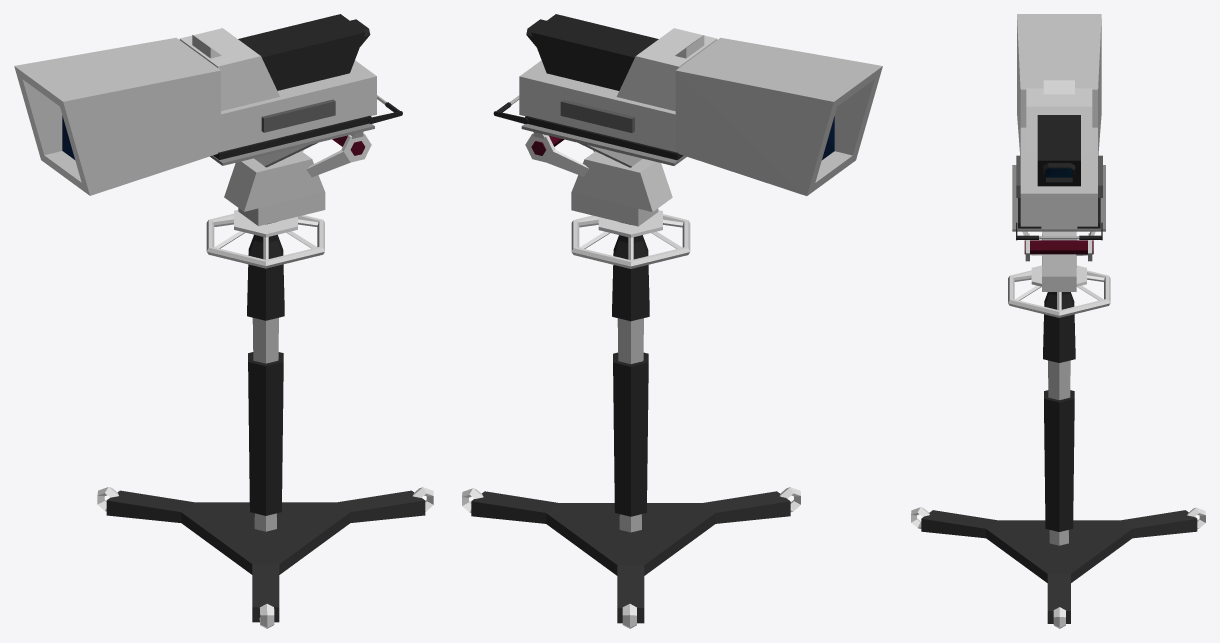
The model's file is Camera1.glb.
The picture shows the model from 3 angles, left to right: view 1: azimuth 30°, elevation 25°; view 2: azimuth 150°, elevation 25°; view 3: azimuth 270°, elevation 25°; orthographic projection. The views are drawn at different scales.
Parts seen in each view (by area): view 1: Camera.02; view 2: Camera.02; view 3: Camera.02.
Part boxes in pixels (<box>): Camera.02: <box>14,14,433,628</box>; Camera.02: <box>462,14,882,628</box>; Camera.02: <box>911,14,1205,628</box>.
Bounding box in the file's own units: 1.29 × 1.64 × 0.9609.
Materials: 1 (1 with a texture image).
